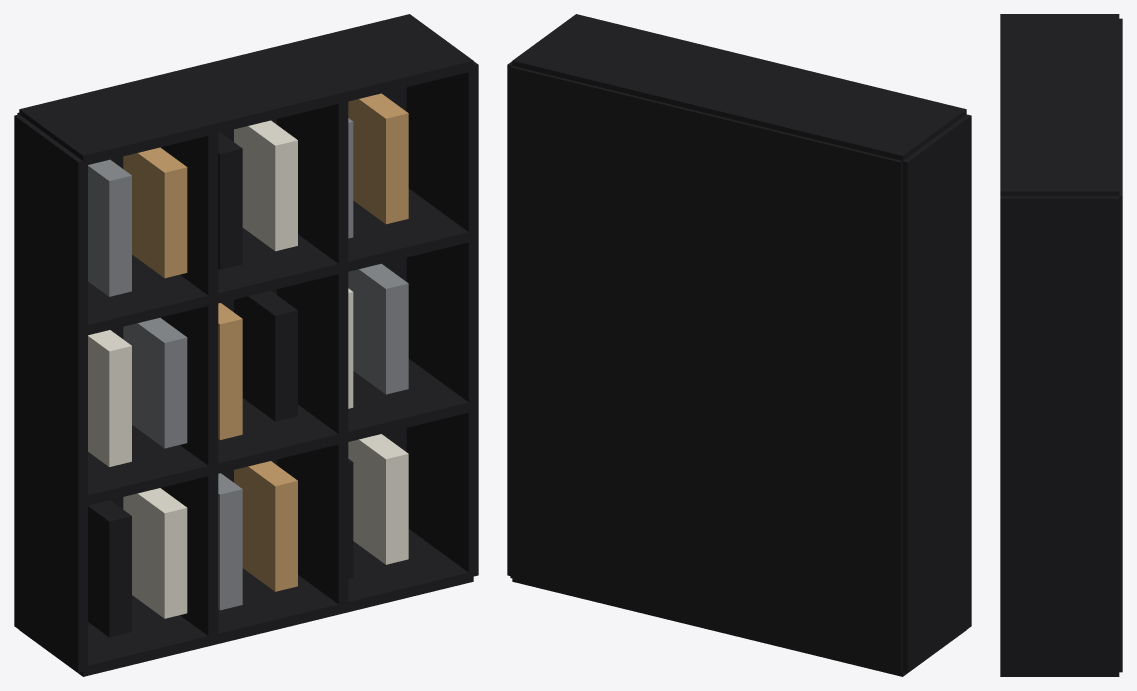
File: GH_Bookcase_Modern_01.glb
The picture shows the model from 3 angles, left to right: view 1: azimuth 30°, elevation 25°; view 2: azimuth 150°, elevation 25°; view 3: azimuth 270°, elevation 25°; orthographic projection. The views are drawn at different scales.
Parts seen in each view (by area): view 1: GH_Bookcase_Modern_01; view 2: GH_Bookcase_Modern_01; view 3: GH_Bookcase_Modern_01.
Part boxes in pixels (x1,y1,x2,y2): GH_Bookcase_Modern_01: (14,14,478,676); GH_Bookcase_Modern_01: (507,14,971,676); GH_Bookcase_Modern_01: (1000,14,1122,676).
Size of the model in its own units: 1.23 by 1.53 by 0.35.
1 material, 1 textured.
